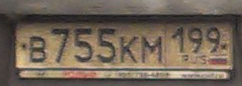character: (94, 26, 117, 62), (72, 25, 94, 62), (140, 33, 163, 66), (50, 26, 70, 63), (118, 32, 140, 65), (28, 35, 49, 63), (203, 24, 221, 53), (187, 24, 203, 54), (169, 25, 185, 54)
